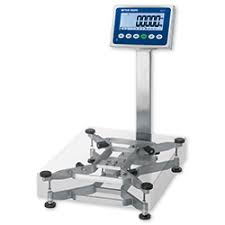Industrial Scale: (35, 4, 190, 221)
